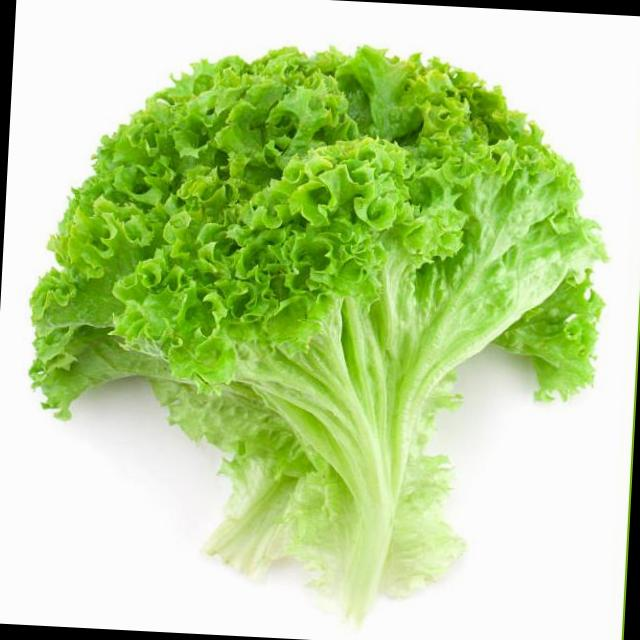Lettuce-Ready-to-Harvest: (32, 48, 605, 621)
